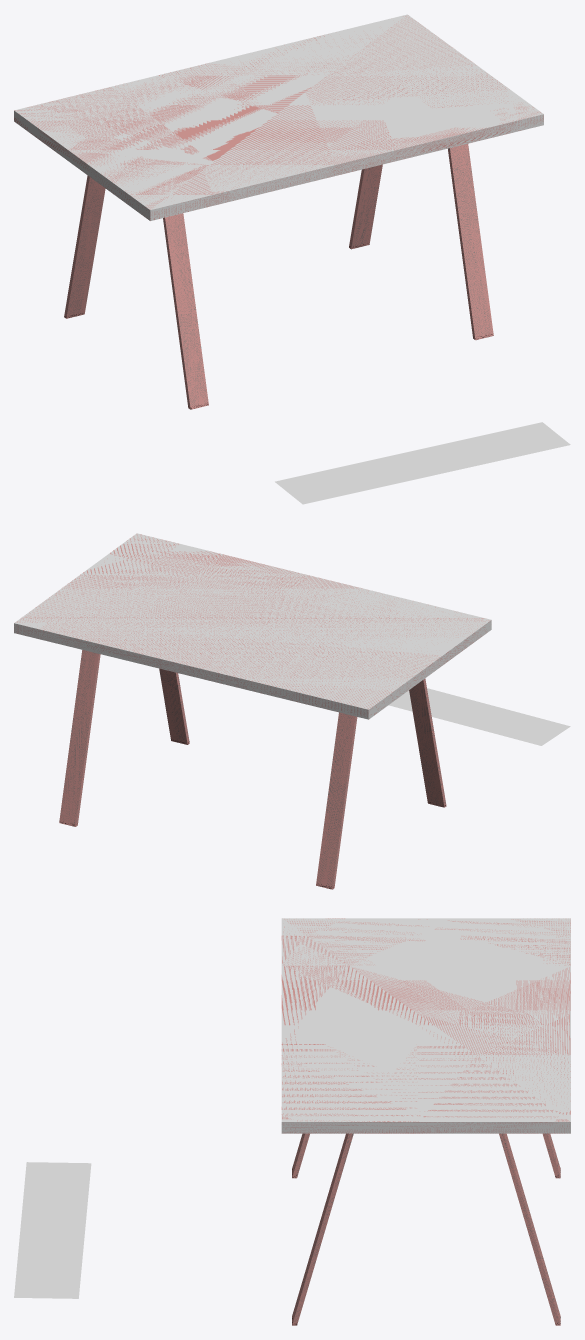
Rendered from stol1.50na0.90.glb.
3 renders of one model, top to bottom at view 1: azimuth 30°, elevation 25°; view 2: azimuth 150°, elevation 25°; view 3: azimuth 270°, elevation 25°, orthographic. The views are drawn at different scales.
Parts seen in each view (by area): view 1: Столешница, Плоскость, Нога_75х15.005, Нога_75х15.001, Нога_75х15.003, Нога_75х15.007; view 2: Столешница, Плоскость, Нога_75х15.003, Нога_75х15.007, Нога_75х15.001, Нога_75х15.005; view 3: Столешница, Плоскость, Нога_75х15.005, Нога_75х15.007.
Part boxes in pixels (x1,y1,x2,y2): Столешница: [14, 14, 543, 220]; Плоскость: [275, 422, 570, 504]; Нога_75х15.005: [448, 144, 493, 337]; Нога_75х15.001: [163, 213, 208, 406]; Нога_75х15.003: [64, 175, 105, 316]; Нога_75х15.007: [349, 164, 382, 246]; Столешница: [14, 533, 491, 719]; Плоскость: [389, 688, 570, 745]; Нога_75х15.003: [316, 712, 357, 886]; Нога_75х15.007: [59, 650, 100, 824]; Нога_75х15.001: [409, 678, 445, 805]; Нога_75х15.005: [159, 668, 189, 742]; Столешница: [281, 918, 570, 1133]; Плоскость: [14, 1162, 91, 1298]; Нога_75х15.005: [293, 1133, 353, 1322]; Нога_75х15.007: [499, 1133, 559, 1322].
Size of the model in its own units: 1.5 by 0.78 by 1.73.
